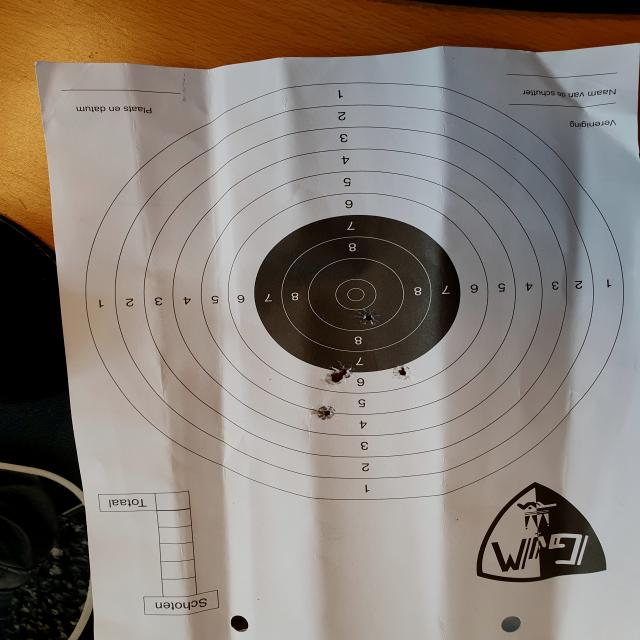5: (313, 404, 336, 421)
6: (322, 371, 343, 388)
7: (390, 364, 412, 379), (334, 363, 353, 377)
9: (357, 310, 381, 324)
Target: (84, 82, 626, 500)
black_contour: (253, 216, 461, 373)
